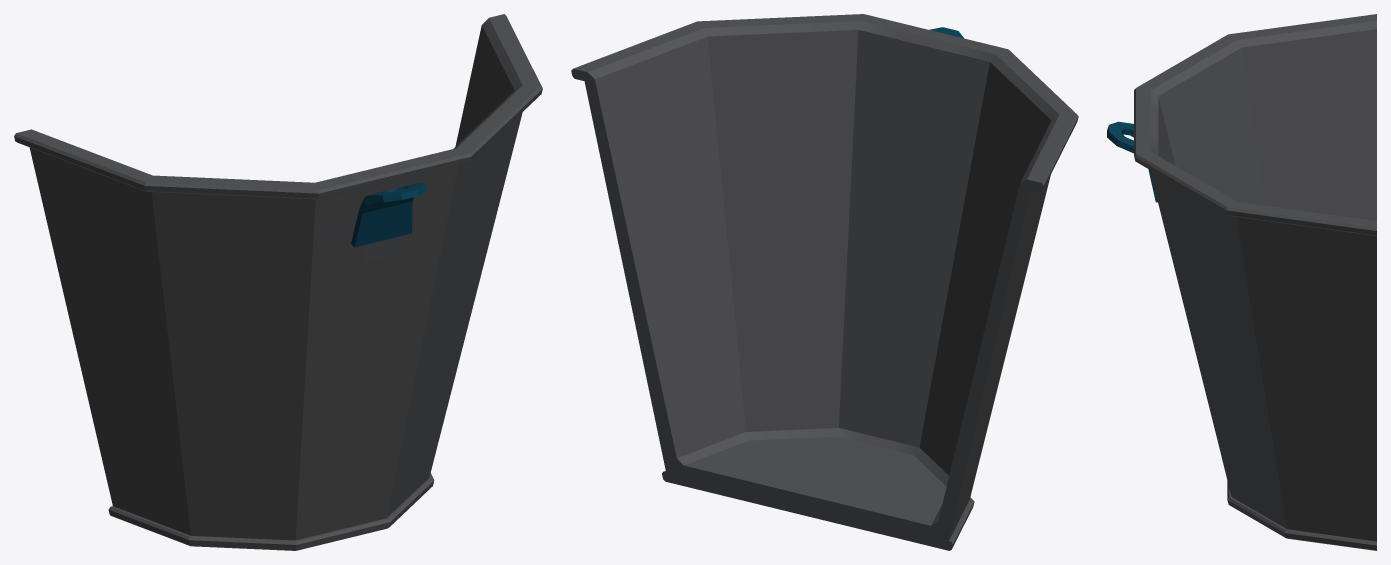
Rendered from BaldeRotoIzq.fbx.
3 renders of one model, left to right at view 1: azimuth 30°, elevation 25°; view 2: azimuth 150°, elevation 25°; view 3: azimuth 270°, elevation 25°, orthographic. The views are drawn at different scales.
Parts seen in each view (by area): view 1: BaldeRotoDer; view 2: BaldeRotoDer; view 3: BaldeRotoDer.
Part boxes in pixels (x1=…): BaldeRotoDer: x1=14, y1=14, x2=542, y2=550; BaldeRotoDer: x1=571, y1=14, x2=1078, y2=550; BaldeRotoDer: x1=1107, y1=14, x2=1376, y2=550.
Size of the model in its own units: 23.97 by 18.92 by 12.67.
